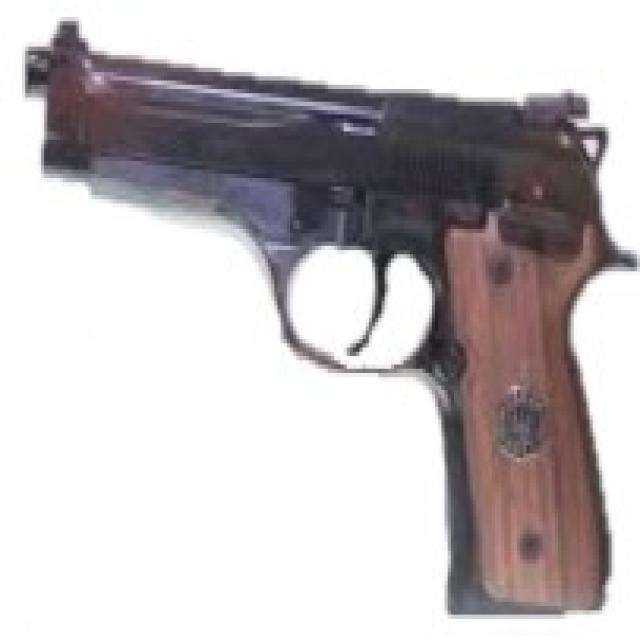pistol: (13, 9, 640, 632)
